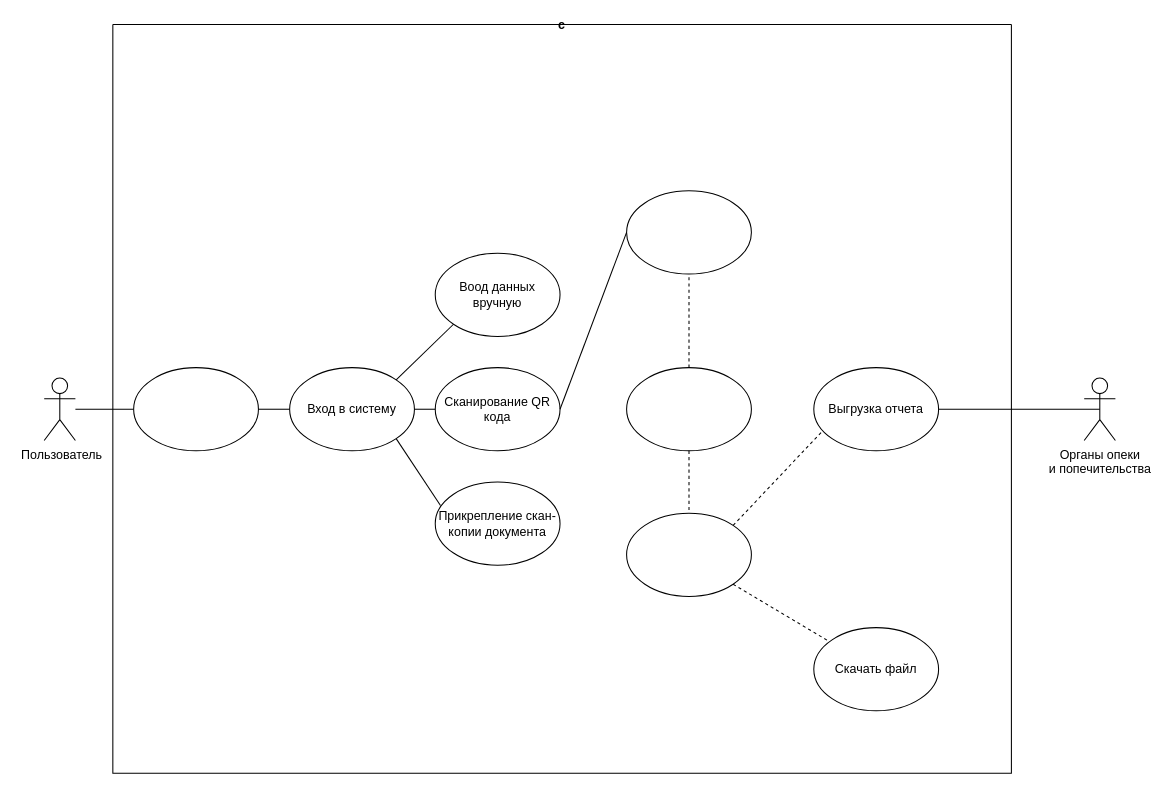
This 1169x791 diagram has some shape labels left out. Each missing label, with the centre of its shape:
"Авторизация" belongs at (195,409).
"Отправка отчета" belongs at (688,554).
"Проверка отчета" belongs at (688,409).
"Формирование отчета" belongs at (688,232).
